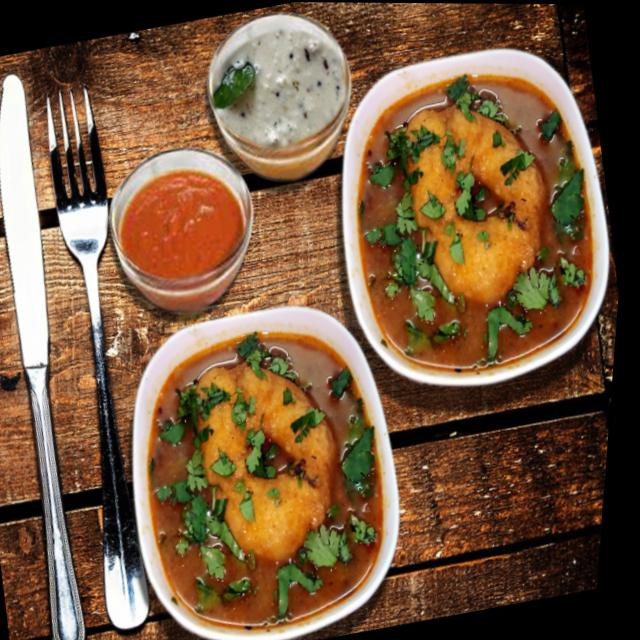VADA: (355, 72, 597, 370), (147, 334, 382, 626)
